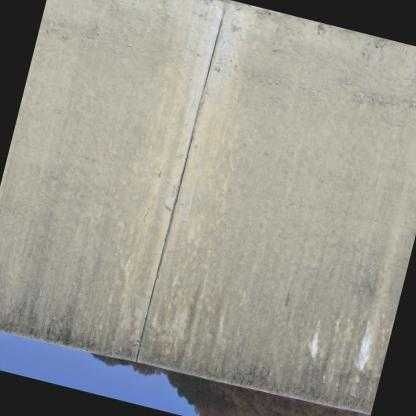crack: (135, 18, 226, 351)
